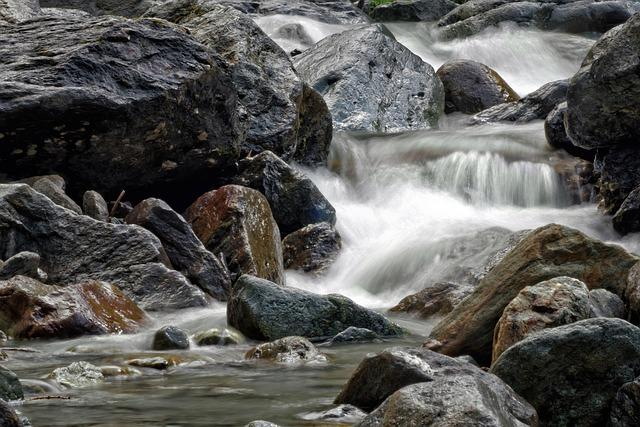Non_Gorille: (49, 6, 619, 380)
